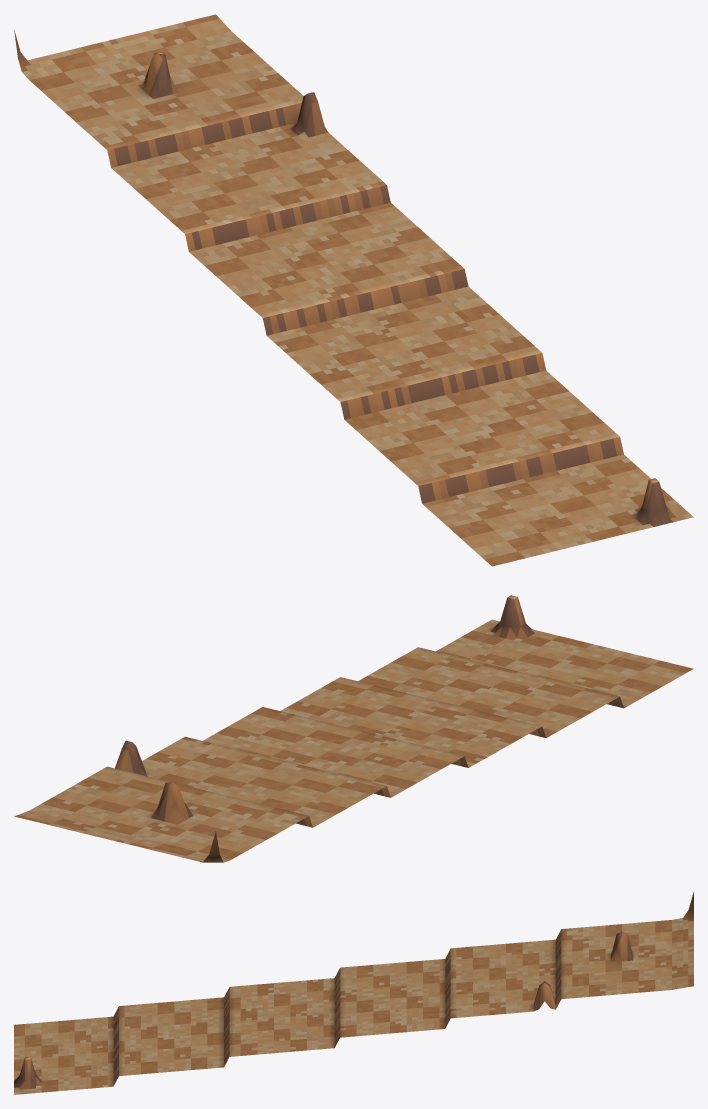
Rendered from isle_ride_fan.glb.
The picture shows the model from 3 angles, top to bottom: view 1: azimuth 30°, elevation 25°; view 2: azimuth 150°, elevation 25°; view 3: azimuth 270°, elevation 25°; orthographic projection. The views are drawn at different scales.
Parts seen in each view (by area): view 1: isle_ride_fan; view 2: isle_ride_fan; view 3: isle_ride_fan.
Part boxes in pixels (x1,y1,x2,y2): isle_ride_fan: (14, 14, 693, 566); isle_ride_fan: (14, 595, 693, 862); isle_ride_fan: (14, 892, 693, 1094).
Size of the model in its own units: 60 by 53.43 by 246.
